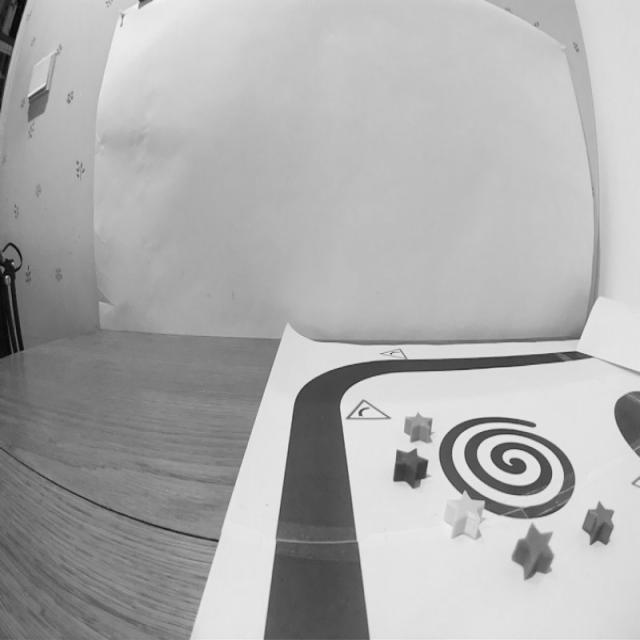lineStraight: (256, 554, 377, 640)
nest: (435, 409, 580, 522)
star: (508, 520, 559, 582), (441, 488, 490, 543), (580, 498, 618, 551), (390, 445, 431, 494), (400, 407, 435, 447)
